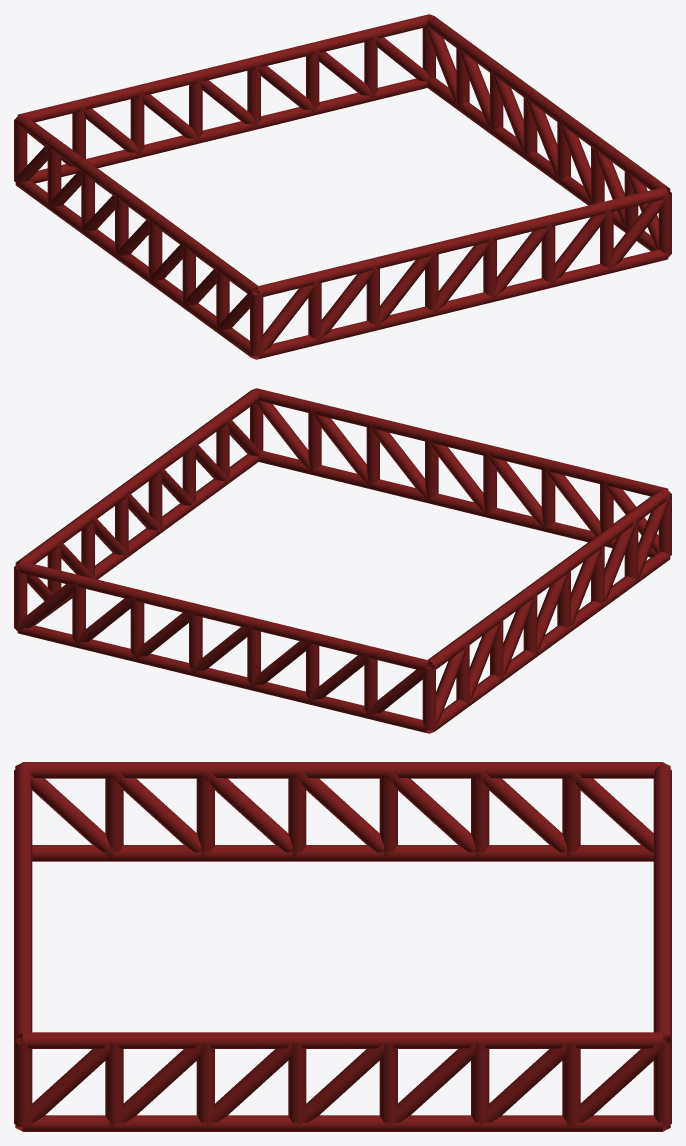
Rendered from andamio21.DAE.
The picture shows the model from 3 angles, top to bottom: view 1: azimuth 30°, elevation 25°; view 2: azimuth 150°, elevation 25°; view 3: azimuth 270°, elevation 25°; orthographic projection. The views are drawn at different scales.
Parts seen in each view (by area): view 1: andamio21; view 2: andamio21; view 3: andamio21.
Boxes of the visible parts, box(x1,y1,x2,y2) form: andamio21: box(14, 14, 671, 359); andamio21: box(14, 388, 671, 733); andamio21: box(14, 762, 671, 1131).
Size of the model in its own units: 21.52 by 3.6 by 21.6.
